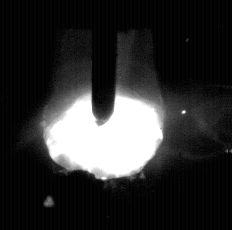arame: (92, 0, 117, 125)
poca: (44, 0, 166, 230)
